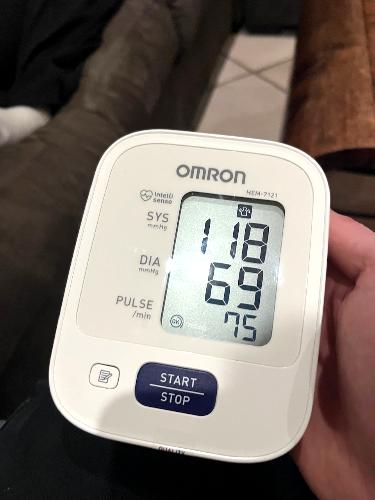bpm: (157, 185, 294, 352)
